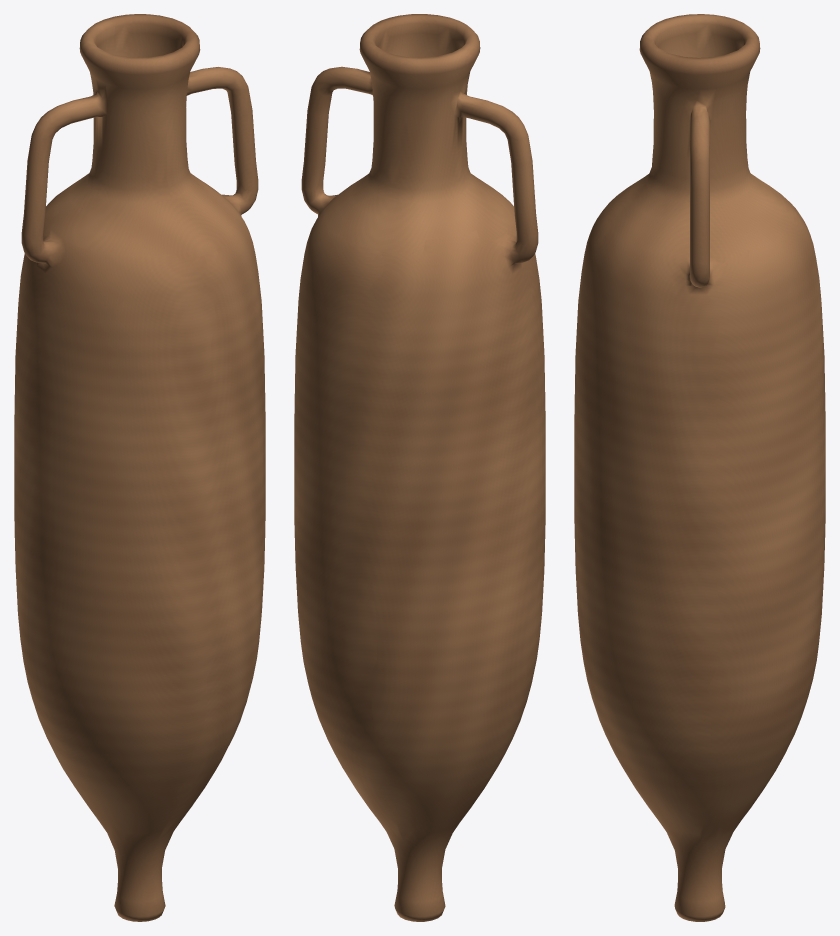
Rendered from NEW692_Amphora_LOD2.glb.
The picture shows the model from 3 angles, left to right: view 1: azimuth 30°, elevation 25°; view 2: azimuth 150°, elevation 25°; view 3: azimuth 270°, elevation 25°; orthographic projection.
Visible parts, largest first — view 1: Complete_open_amphora_with_two_connected_handles; view 2: Complete_open_amphora_with_two_connected_handles; view 3: Complete_open_amphora_with_two_connected_handles.
Boxes of the visible parts, <box> form: Complete_open_amphora_with_two_connected_handles: <box>14,14,265,921</box>; Complete_open_amphora_with_two_connected_handles: <box>294,14,545,921</box>; Complete_open_amphora_with_two_connected_handles: <box>574,14,825,921</box>.
Size of the model in its own units: 0.3074 by 1.1 by 0.2861.
Materials: 1 (1 with a texture image).
